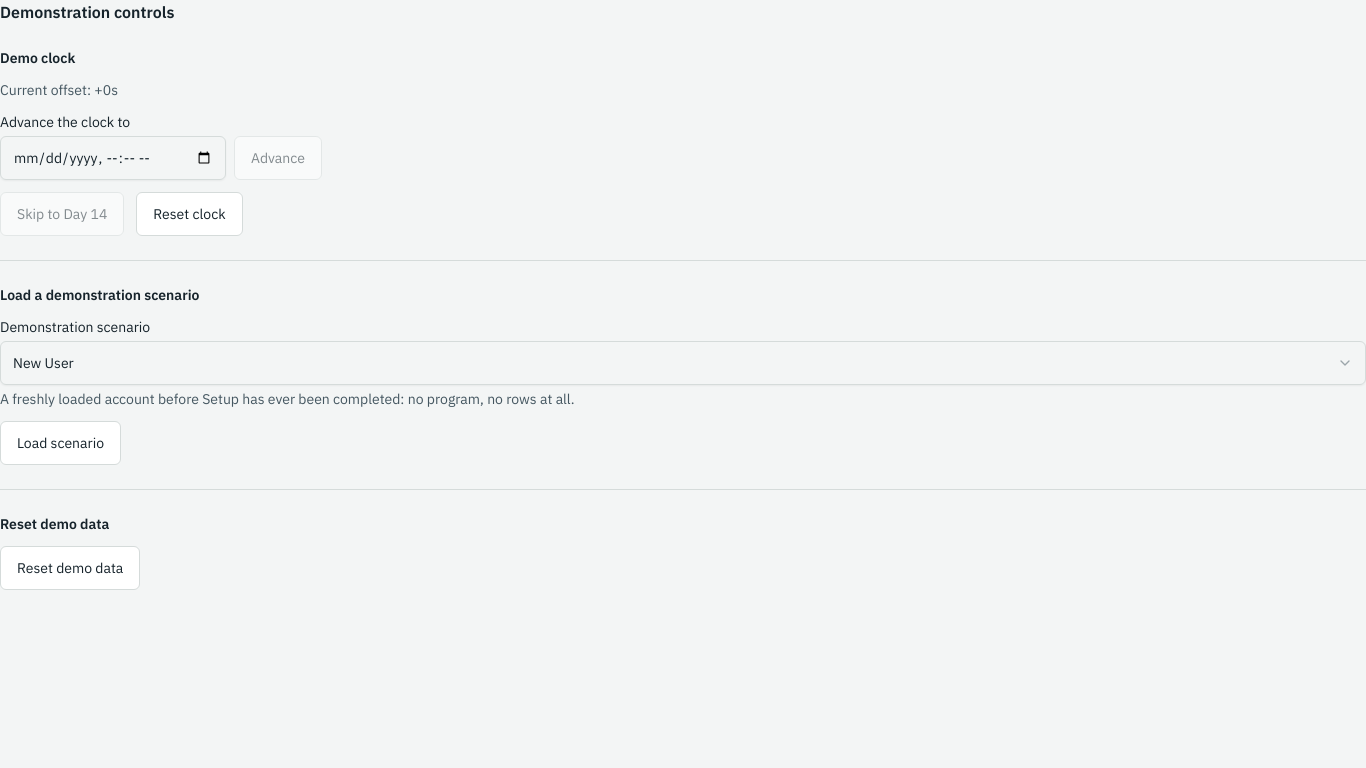
Scenario: DemoControls › Load without confirmation posts nothing
Click the button "Load scenario": coordinates (60, 443) [0, 421, 121, 465]
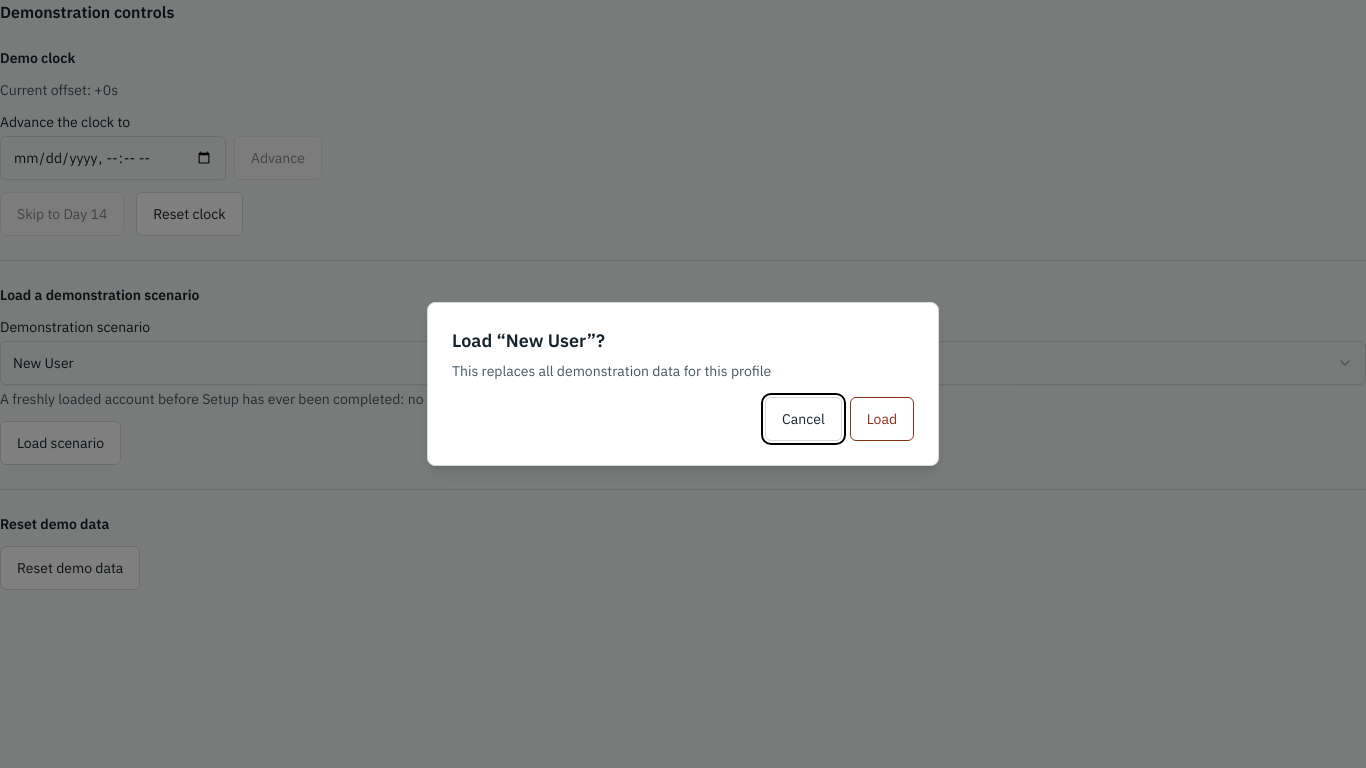
Check: the dialog is shown, box [427, 302, 939, 466]
